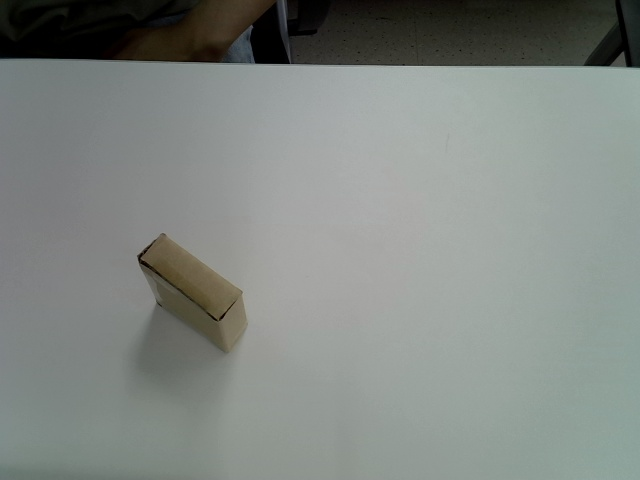normal: (137, 232, 249, 355)
